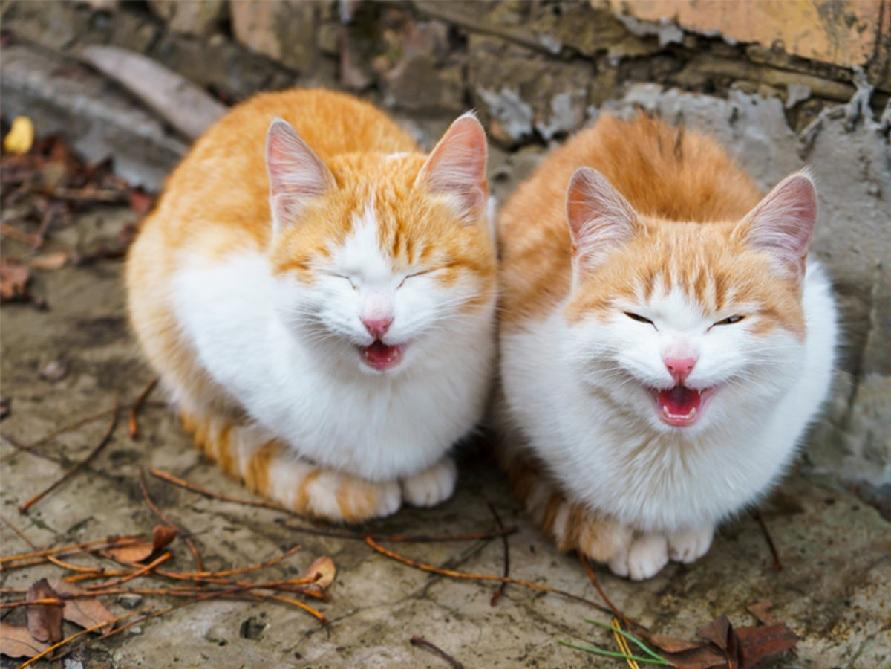Cat: (112, 80, 500, 530), (495, 95, 847, 578)
